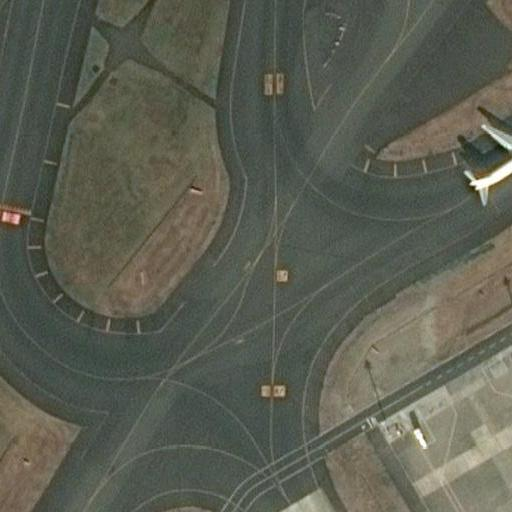Aircraft: (449, 106, 512, 206)
